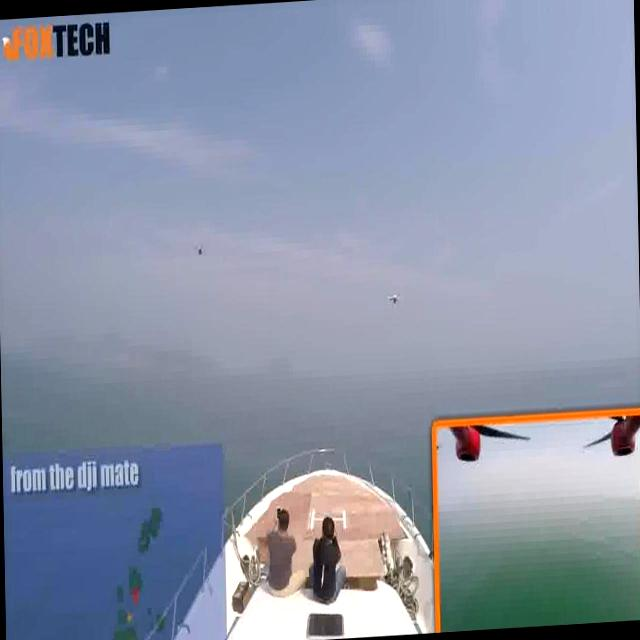drone: (384, 291, 403, 306)
